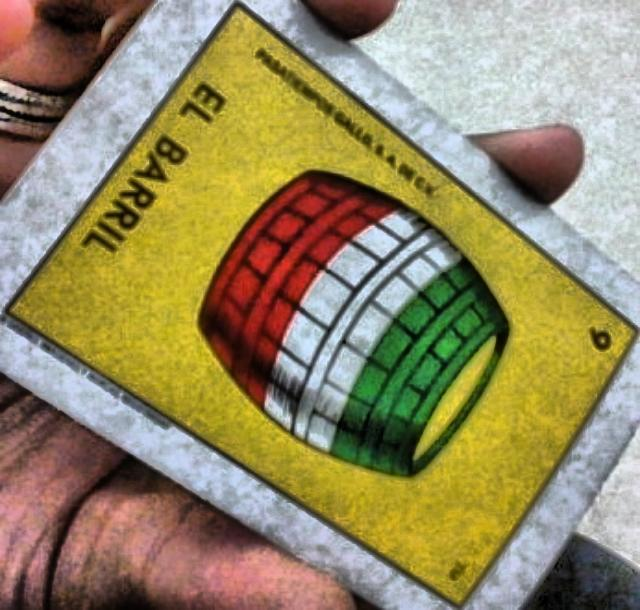El Barril: (9, 8, 638, 605)
